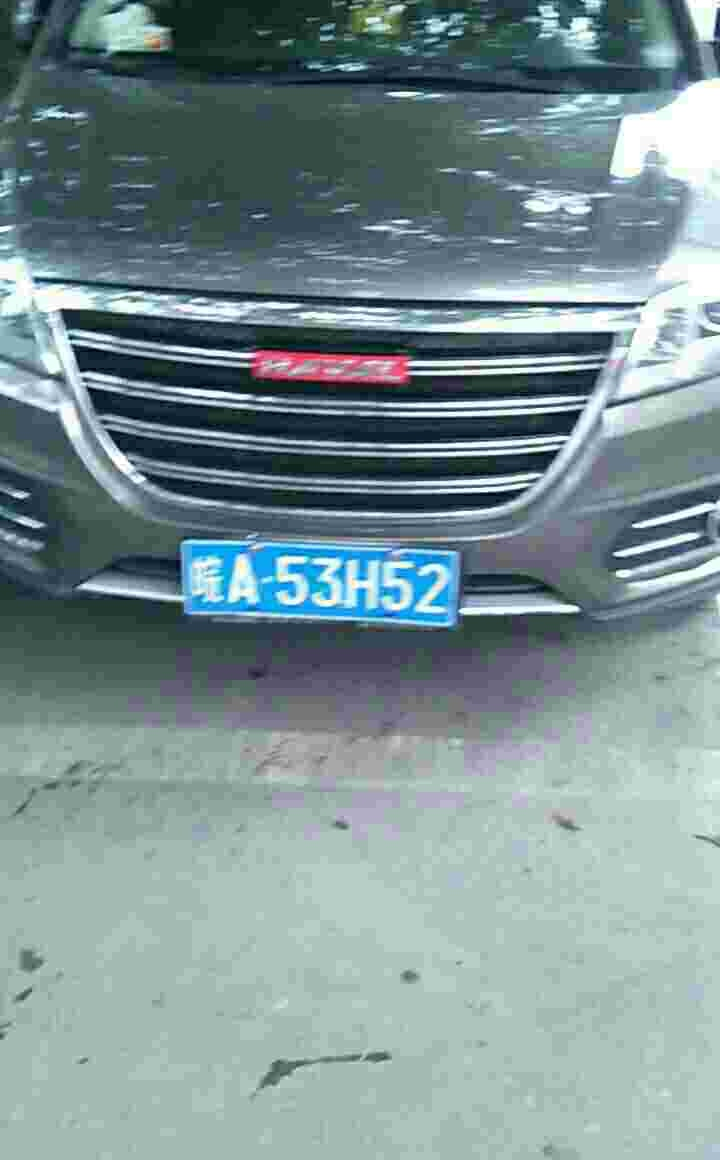license_plate: (164, 533, 458, 624)
